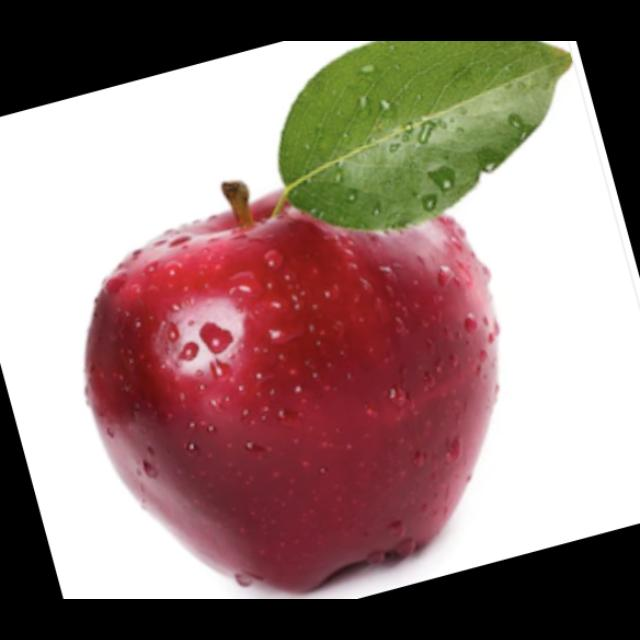Apel Segar: (44, 182, 546, 592)
